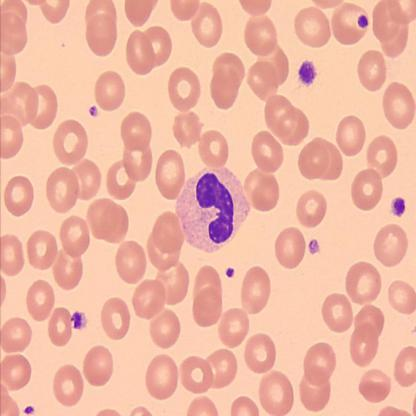Band Neutrophil: (171, 164, 251, 251)
